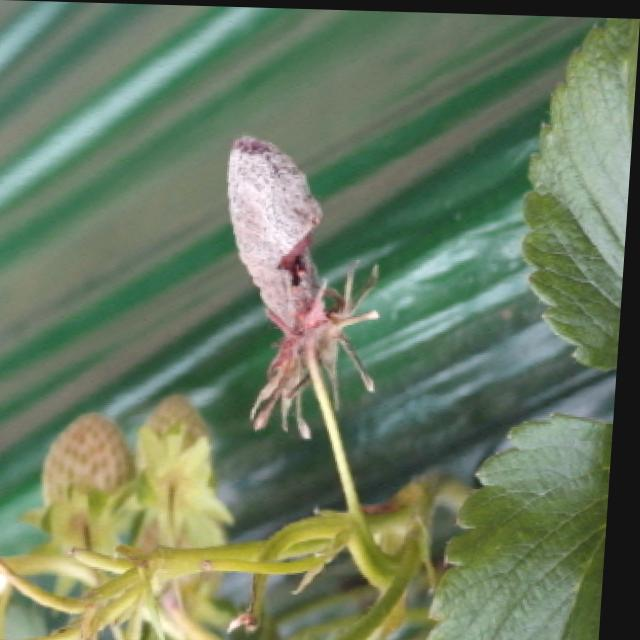Gray Mold: (228, 132, 385, 439)
